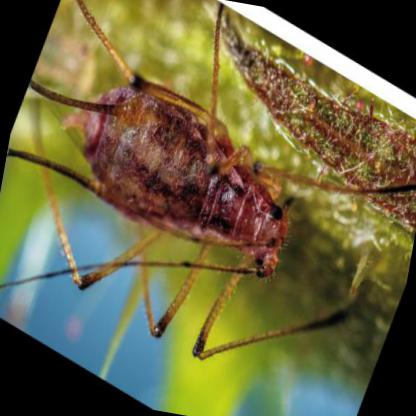uroleucon compositae: (8, 0, 289, 282)
